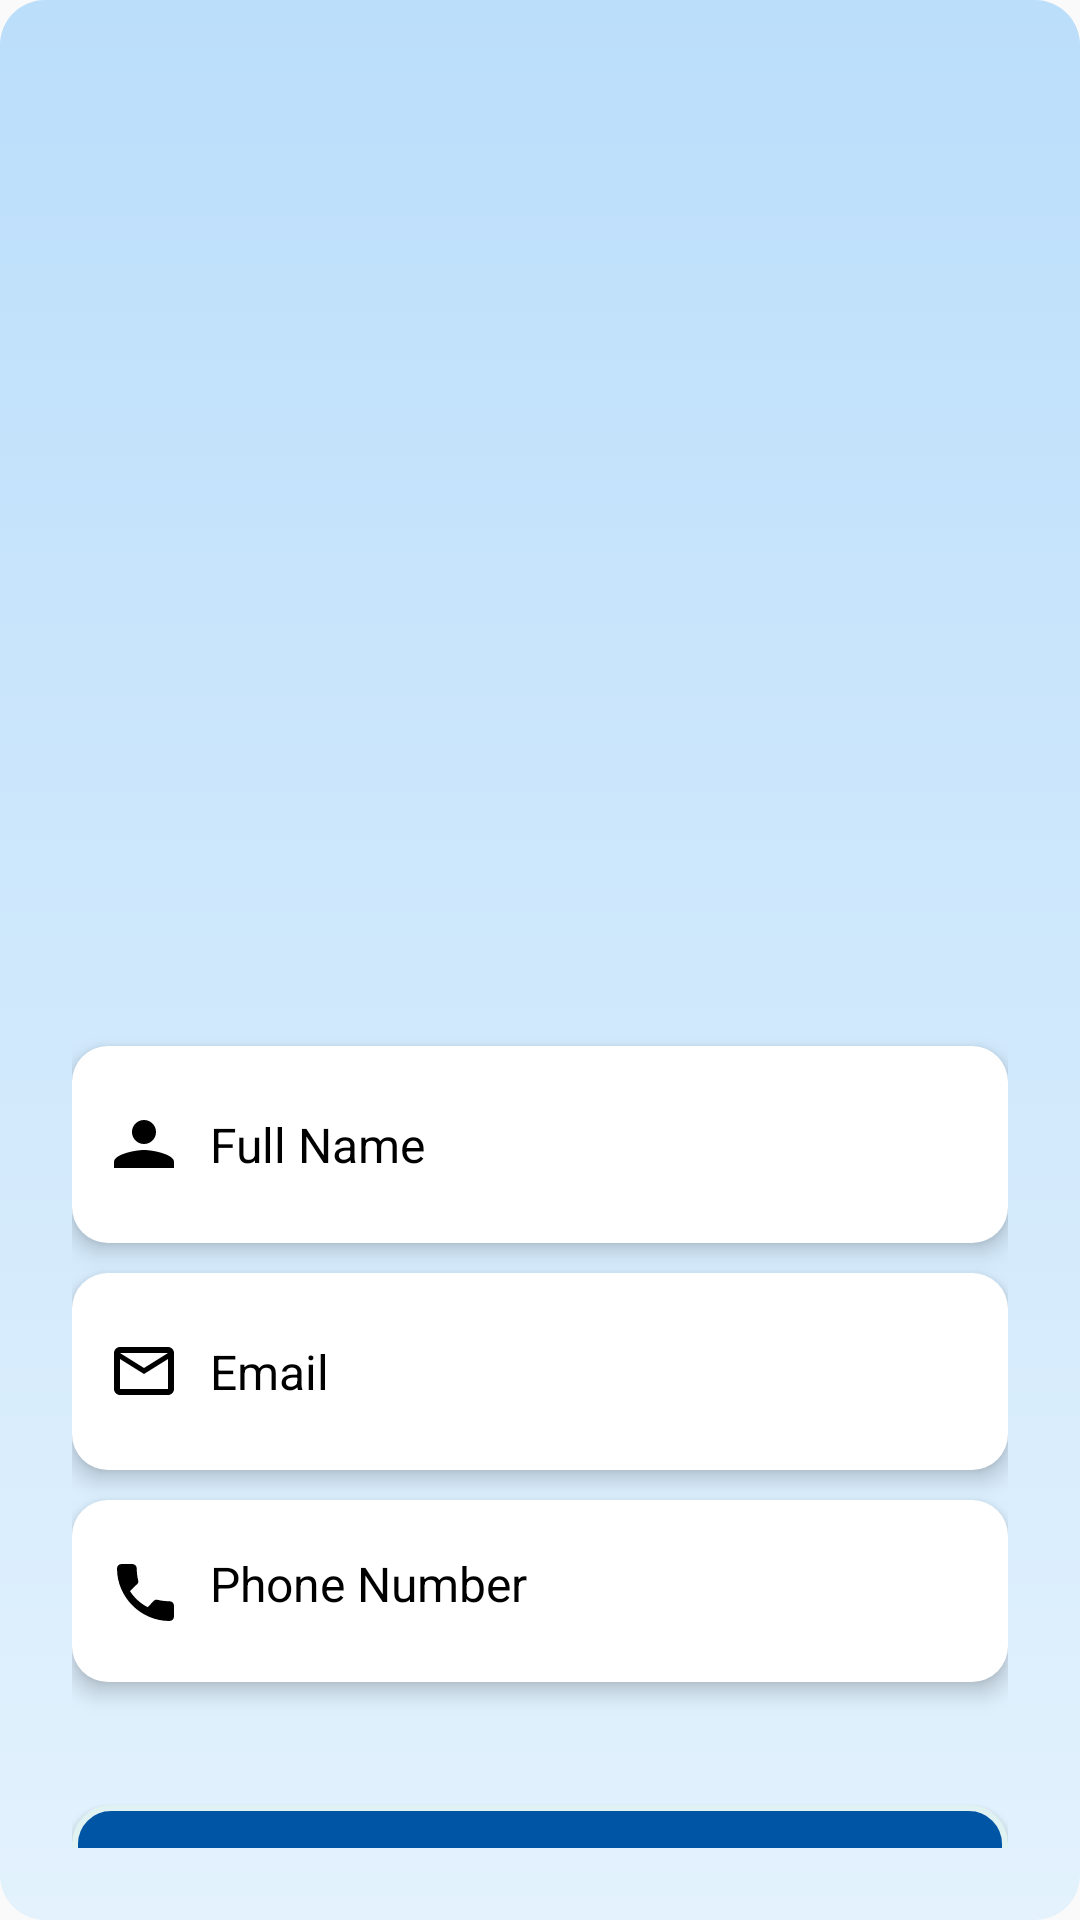

Icon click points for this 1080x1920 phone screenshot, format (x,y):
user: (144,1144)
